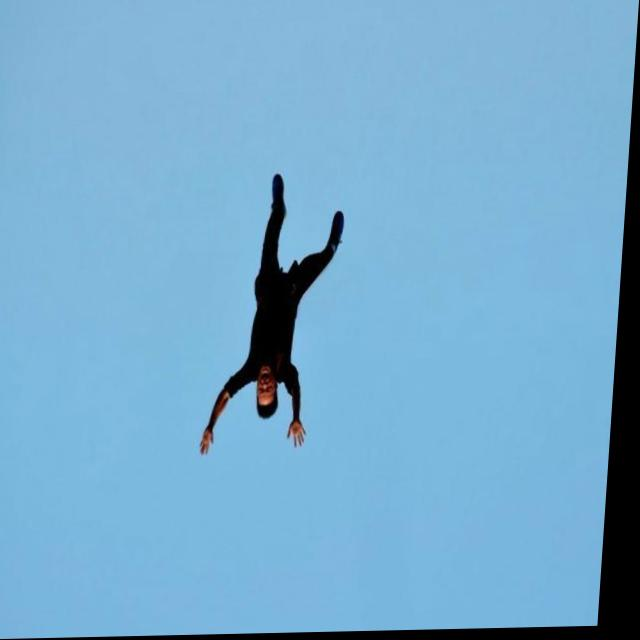fall: (204, 177, 356, 466)
